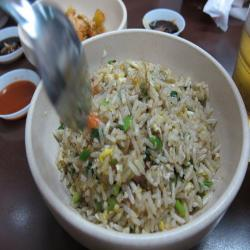ketchup: (1, 74, 38, 120)
rice: (53, 64, 223, 233)
